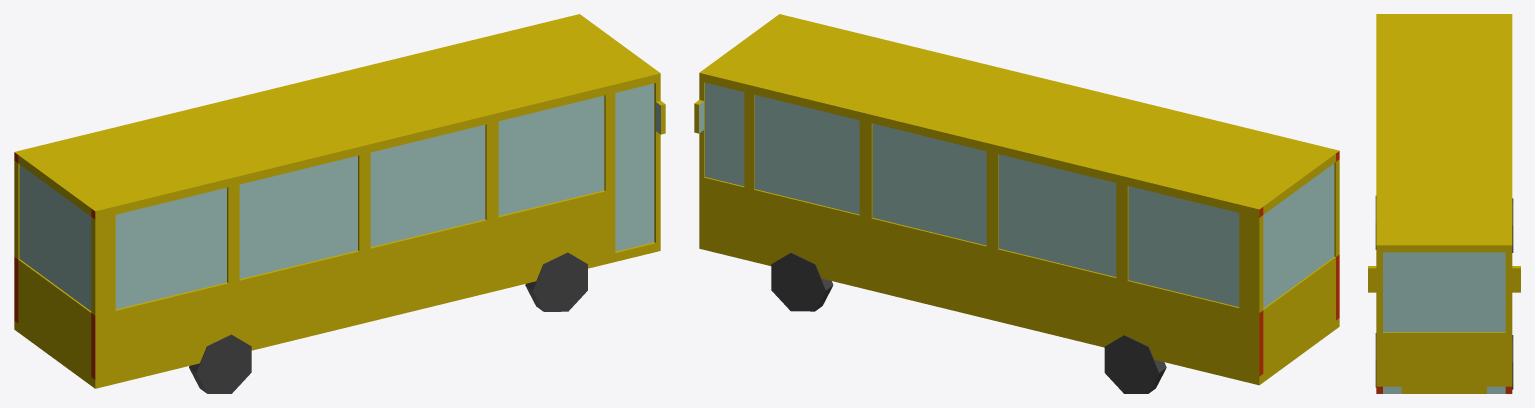
Rendered from bus.fbx.
3 views of the same model, side by side, from view 1: azimuth 30°, elevation 25°; view 2: azimuth 150°, elevation 25°; view 3: azimuth 270°, elevation 25° (orthographic). The views are drawn at different scales.
Visible parts, largest first — view 1: Cube, Cylinder.003, Cylinder; view 2: Cube, Cylinder.002, Cylinder.001; view 3: Cube.
Boxes of the visible parts, <box> form: Cube: <box>14,14,665,388</box>; Cylinder.003: <box>189,334,251,393</box>; Cylinder: <box>525,252,587,311</box>; Cube: <box>694,14,1339,385</box>; Cylinder.002: <box>1104,335,1166,393</box>; Cylinder.001: <box>771,252,833,311</box>; Cube: <box>1368,14,1520,393</box>.
Bounding box in the file's own units: 10 × 3.7 × 2.79.
